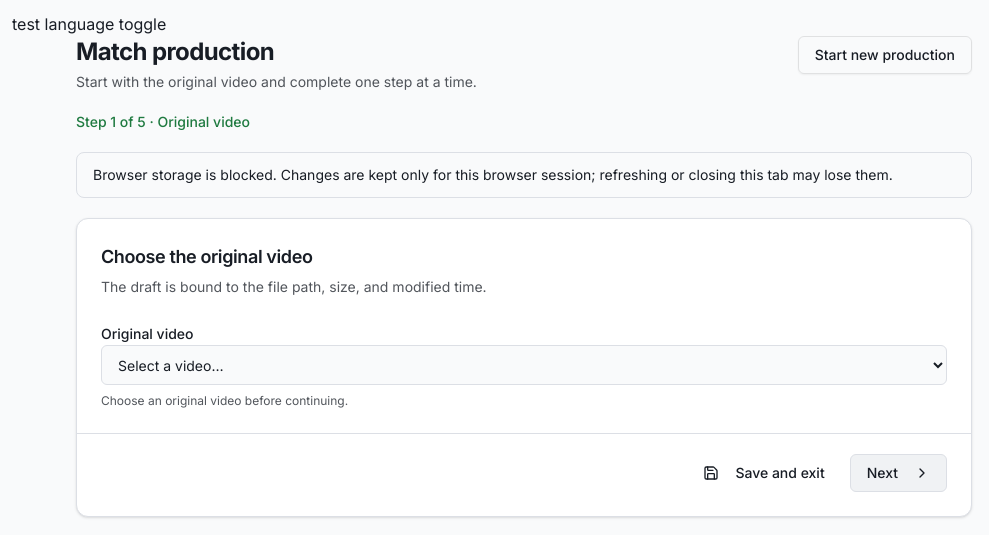
Test: ProductionPage › renders with an unsaved fallback when the localStorage getter throws
Expected: the heading "Choose the original video" is shown, [101, 246, 312, 267]
Expected: the text "Changes are kept only for this browser session" is shown, [93, 166, 893, 183]
Select "data/match-a.mp4 · 1.0 KB" in the dropdown labelled "Original video" at [524, 365], box [101, 345, 947, 385]
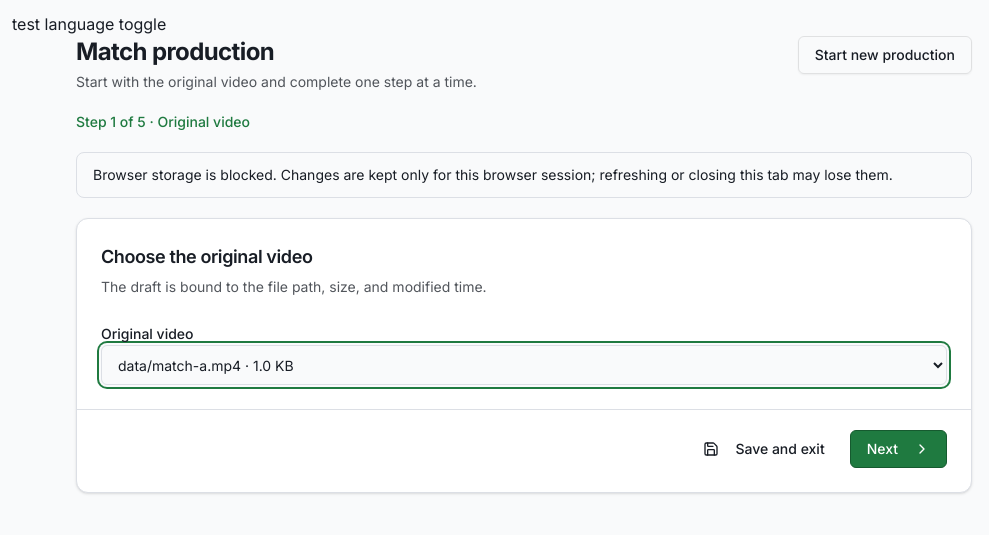
Result: the button "Next" is enabled at [850, 430, 947, 468]
